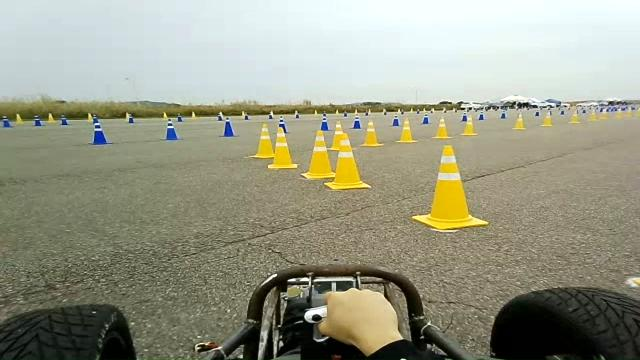blue cone: (86, 118, 113, 148), (161, 119, 183, 141), (223, 116, 238, 140), (318, 115, 332, 137), (350, 114, 364, 132), (278, 114, 288, 137), (390, 112, 400, 126)
yellow cone: (411, 144, 489, 230), (324, 139, 371, 190), (301, 130, 335, 178), (268, 127, 298, 169), (248, 123, 274, 158), (327, 120, 350, 151), (358, 119, 384, 146), (395, 117, 417, 143), (431, 116, 452, 139), (465, 113, 478, 135)
